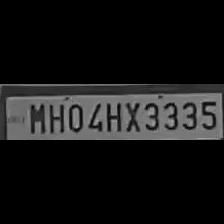0: (64, 100, 84, 132)
3: (141, 99, 159, 131), (161, 99, 179, 131), (180, 98, 198, 130)
4: (84, 100, 104, 132)
5: (198, 98, 218, 130)
H: (104, 98, 122, 132), (45, 101, 63, 133)
M: (26, 100, 46, 134)
X: (123, 100, 141, 132)
